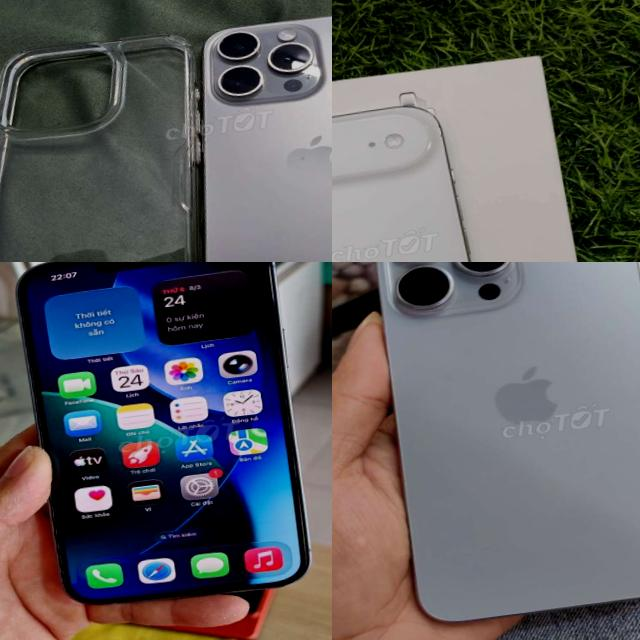gen_14: (11, 262, 324, 618)
gen_15: (347, 262, 640, 640), (158, 0, 332, 262)
gen_17: (332, 91, 528, 262)
